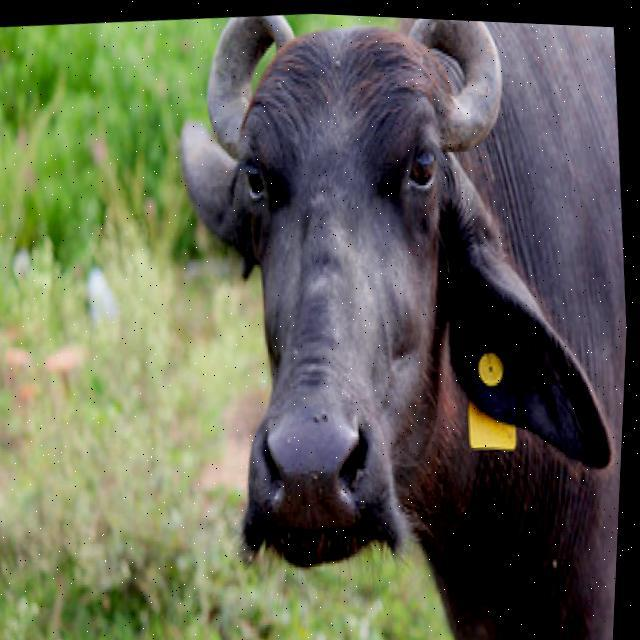Buffalo: (143, 8, 640, 640)
